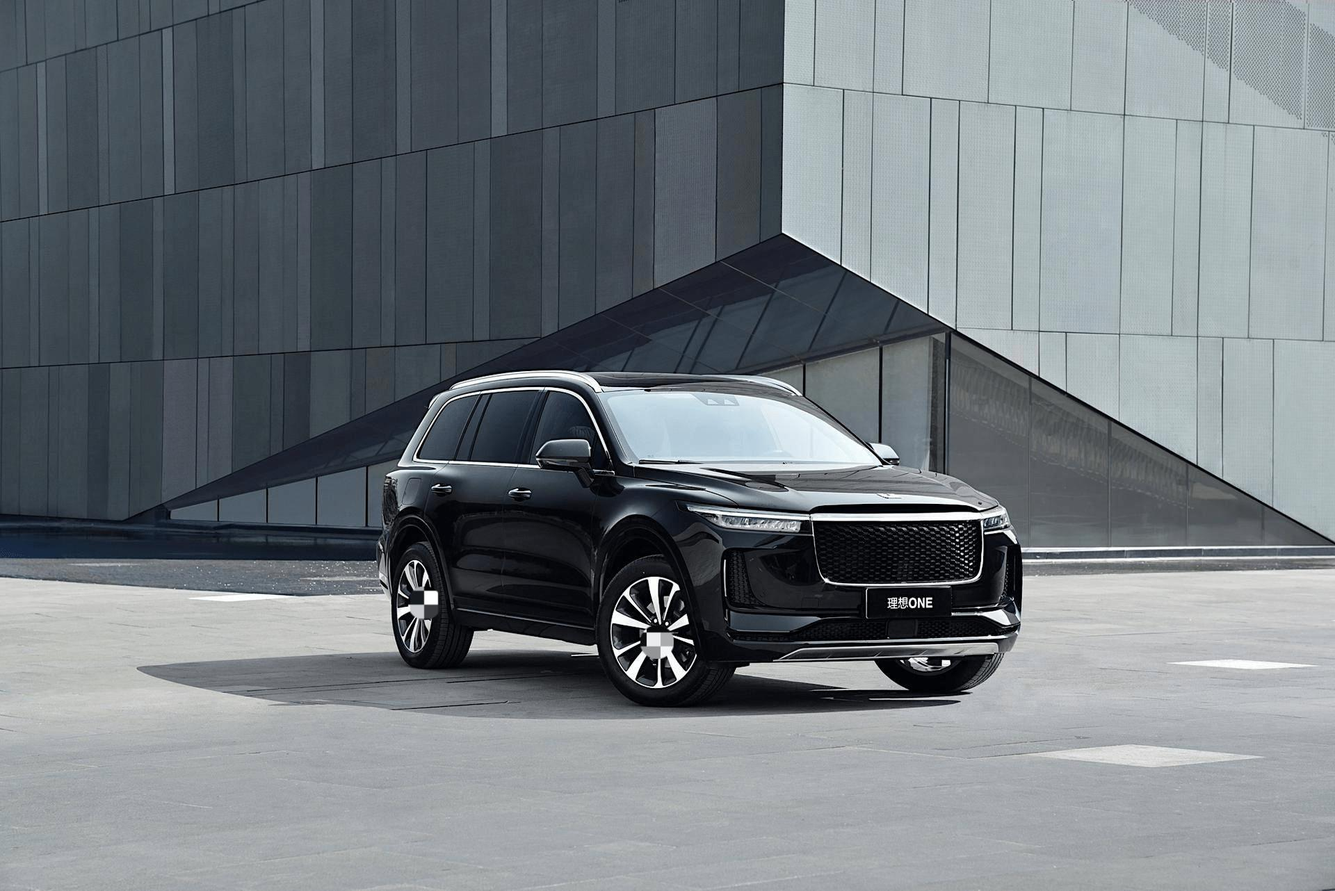Li Auto: (878, 493, 901, 499)
